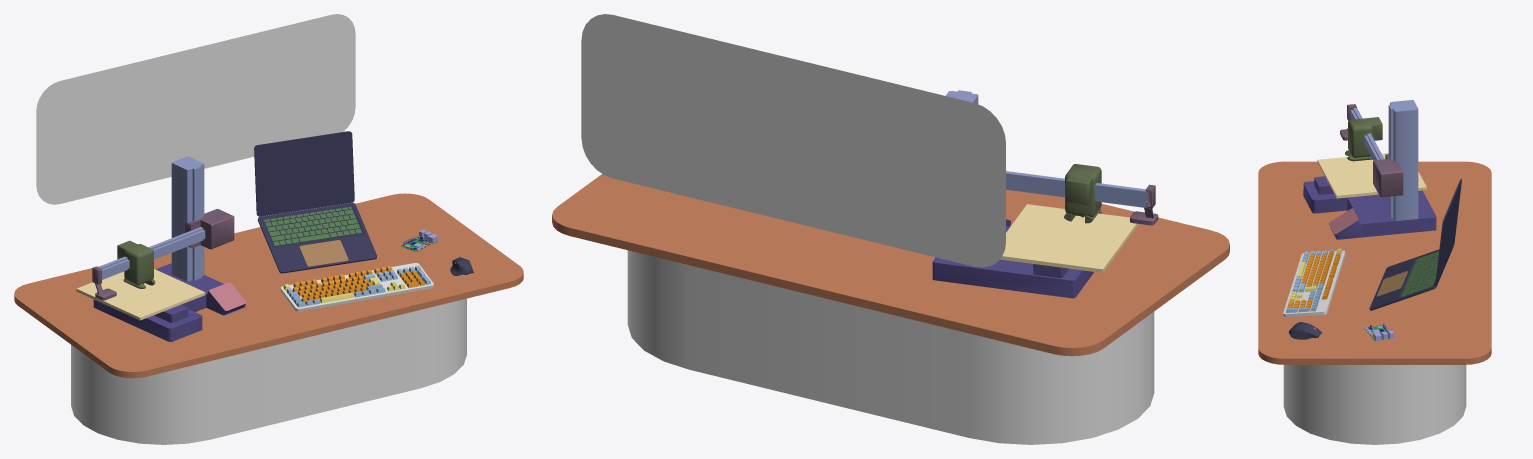
Rendered from desk.glb.
3 views of the same model, side by side, from view 1: azimuth 30°, elevation 25°; view 2: azimuth 150°, elevation 25°; view 3: azimuth 270°, elevation 25° (orthographic). The views are drawn at different scales.
Visible parts, largest first — view 1: window, table, gravity_field, screen, print-body, laptop_body, keyboard_2, print-table, print-arm, head; view 2: window, gravity_field, table, print-table, print-body, print-arm, head; view 3: table, gravity_field, print-body, keyboard_2, laptop_body, print-table, print-arm, head, screen, mouse, pi.
Part boxes in pixels (x1=…): window: x1=36, y1=14, x2=355, y2=204; table: x1=14, y1=193, x2=523, y2=378; gravity_field: x1=71, y1=298, x2=466, y2=444; screen: x1=254, y1=131, x2=354, y2=216; print-body: x1=93, y1=156, x2=246, y2=341; laptop_body: x1=257, y1=202, x2=377, y2=273; keyboard_2: x1=280, y1=263, x2=433, y2=311; print-table: x1=76, y1=269, x2=205, y2=320; print-arm: x1=92, y1=209, x2=234, y2=300; head: x1=117, y1=240, x2=155, y2=288; window: x1=581, y1=14, x2=1005, y2=267; gravity_field: x1=627, y1=250, x2=1154, y2=444; table: x1=552, y1=174, x2=1229, y2=356; print-table: x1=1000, y1=204, x2=1138, y2=272; print-body: x1=932, y1=90, x2=1101, y2=298; print-arm: x1=1006, y1=171, x2=1158, y2=225; head: x1=1064, y1=164, x2=1101, y2=223; table: x1=1258, y1=161, x2=1491, y2=364; gravity_field: x1=1283, y1=365, x2=1466, y2=444; print-body: x1=1303, y1=100, x2=1436, y2=239; keyboard_2: x1=1283, y1=248, x2=1345, y2=317; laptop_body: x1=1369, y1=247, x2=1453, y2=310; print-table: x1=1317, y1=153, x2=1426, y2=198; print-arm: x1=1340, y1=104, x2=1403, y2=197; head: x1=1345, y1=117, x2=1382, y2=161; screen: x1=1435, y1=179, x2=1461, y2=285; mouse: x1=1289, y1=322, x2=1321, y2=339; pi: x1=1364, y1=323, x2=1394, y2=340.
Size of the model in its own units: 1.39 by 0.9002 by 0.7749.
